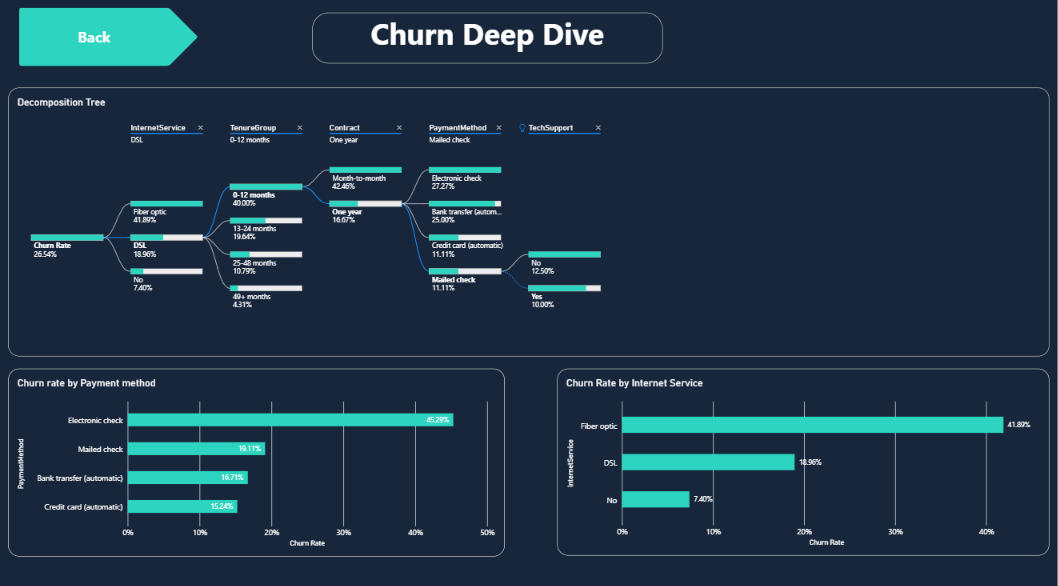

The dashboard page shown, as its layout file describes it:
{"tool":"powerbi","page":{"name":"Churn Deep Dive","canvas":[1920,1080],"ordinal":1},"visuals":[{"type":"clusteredBarChart","title":"Churn Rate by Internet Service","fields":{"Category":["Customers.InternetService"],"Y":["Customers.Churn Rate"]},"box":[1010,672,890,338],"z":0},{"type":"clusteredBarChart","title":"Churn rate by Payment method","fields":{"Category":["Customers.PaymentMethod"],"Y":["Customers.Churn Rate"]},"box":[16,672,898,340],"z":1000},{"type":"decompositionTreeVisual","title":"Decomposition Tree","fields":{"Analyze":["Customers.Churn Rate"],"ExplainBy":["Customers.InternetService","Customers.TenureGroup","Customers.Contract","Customers.PaymentMethod","Customers.TechSupport"]},"box":[16,162,1884,486],"z":2000},{"type":"textbox","box":[566,28,634,92],"z":3000},{"type":"actionButton","title":"dsfsds","box":[36,18,324,106],"z":3001}]}

Visuals, with their boxes in screenshot pixels (x1, y1, x2, y2), scaled from the page's 1920x1080 canvas onto the 1058x586 screenshot:
"Churn Rate by Internet Service" clusteredBarChart: detection(557, 365, 1047, 548)
"Churn rate by Payment method" clusteredBarChart: detection(9, 365, 504, 549)
"Decomposition Tree" decompositionTreeVisual: detection(9, 88, 1047, 352)
textbox: detection(312, 15, 661, 65)
"dsfsds" actionButton: detection(20, 10, 198, 67)
